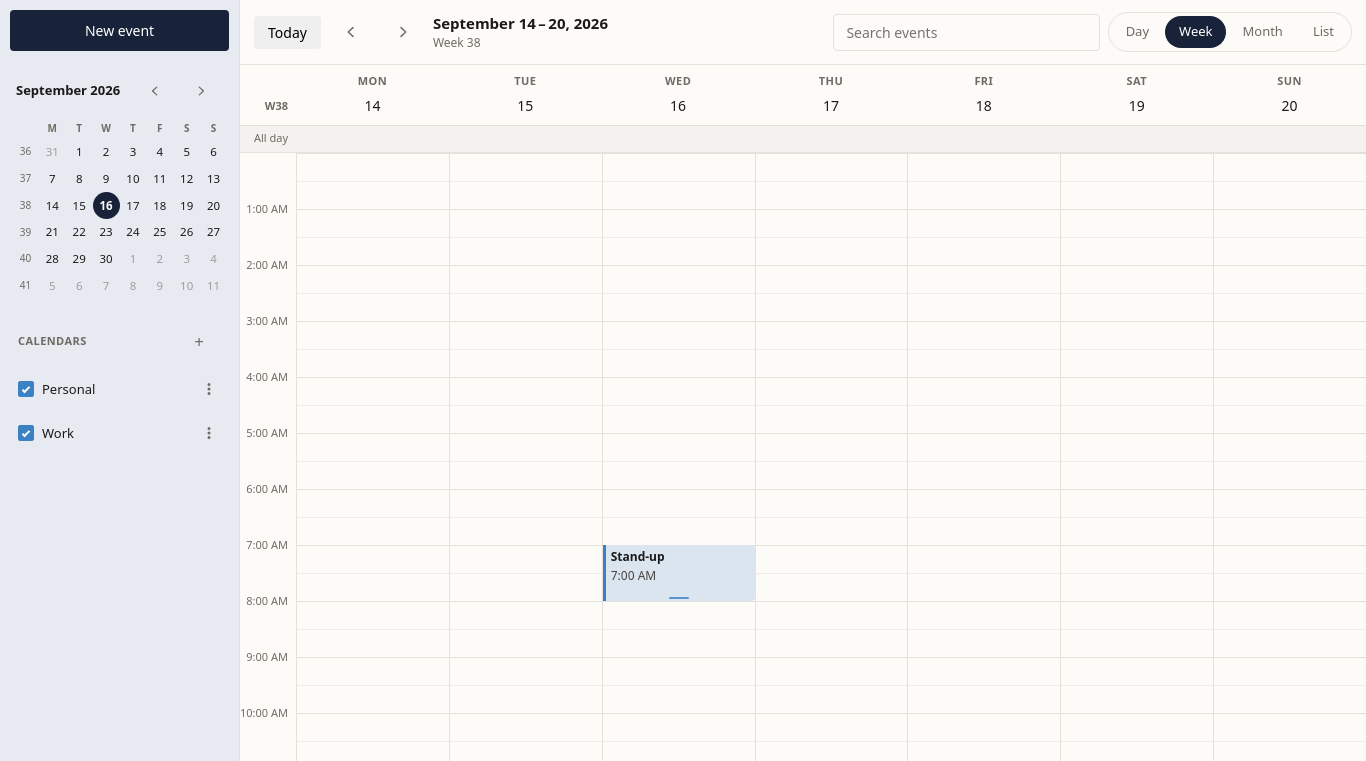
Test case: CalendarLayout — the bubble › hands focus to the grid column when the bubble’s own delete lands
The width and height of the screenshot is (1366, 761).
Click the button "Stand-up 7:00 AM".
click(679, 572)  # box [603,544,755,600]
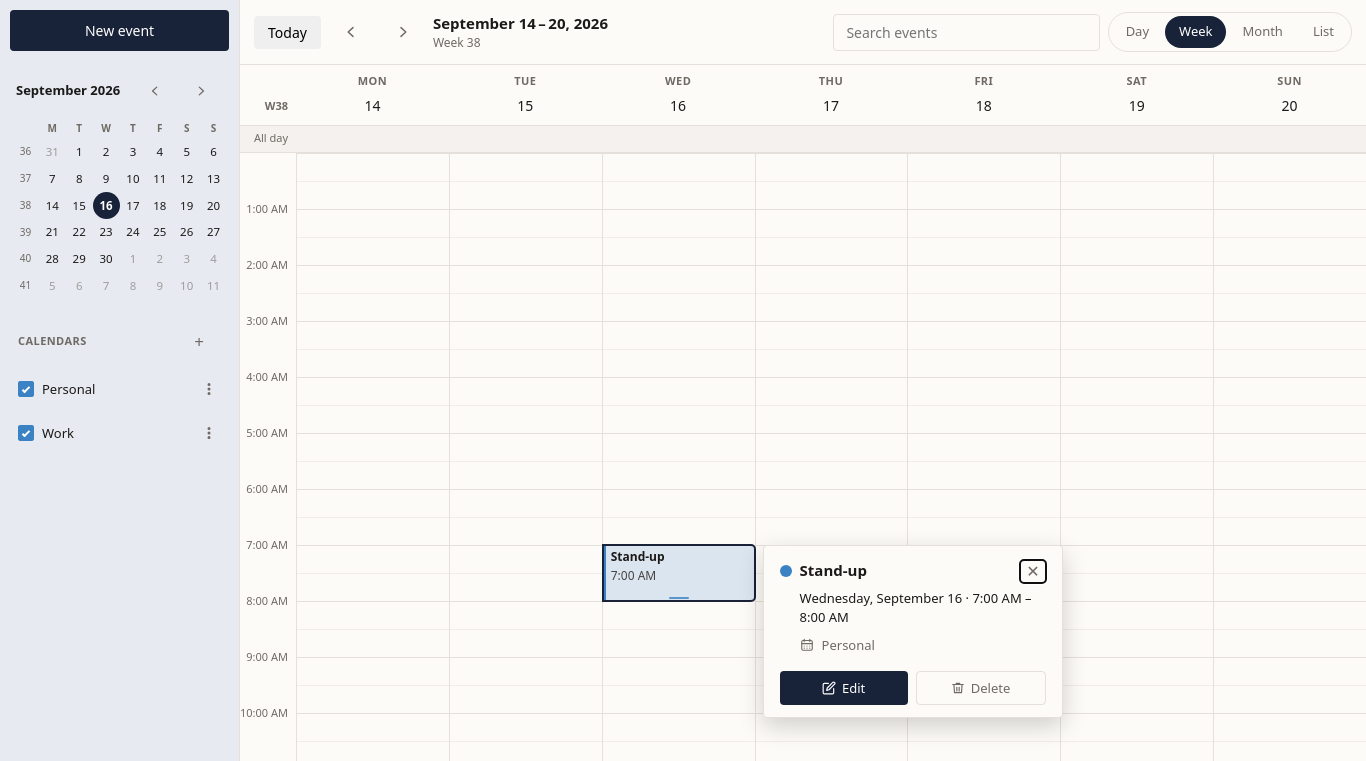
Click the button "Delete".
click(981, 688)  # box [916,671,1046,705]
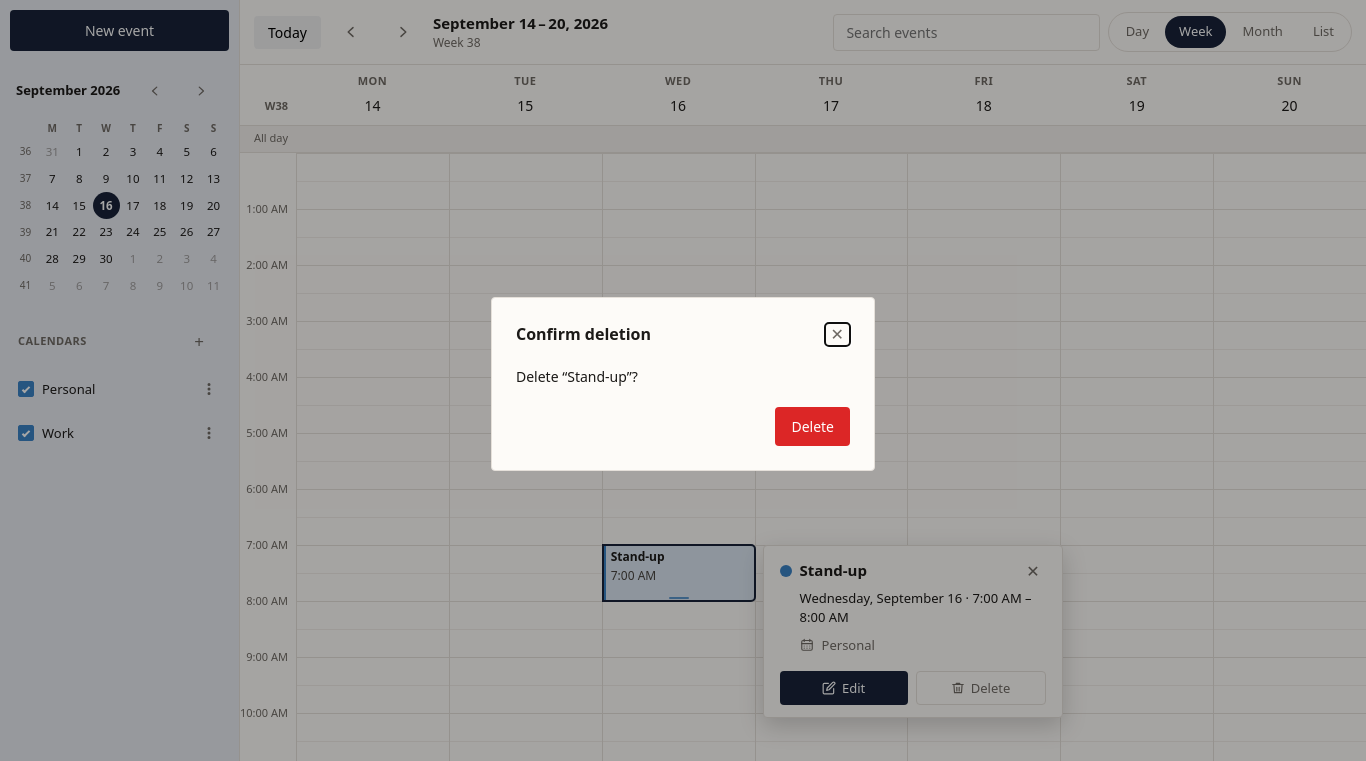
Click the button "Delete".
click(813, 426)  # box [775,407,850,446]
(page scrolled)
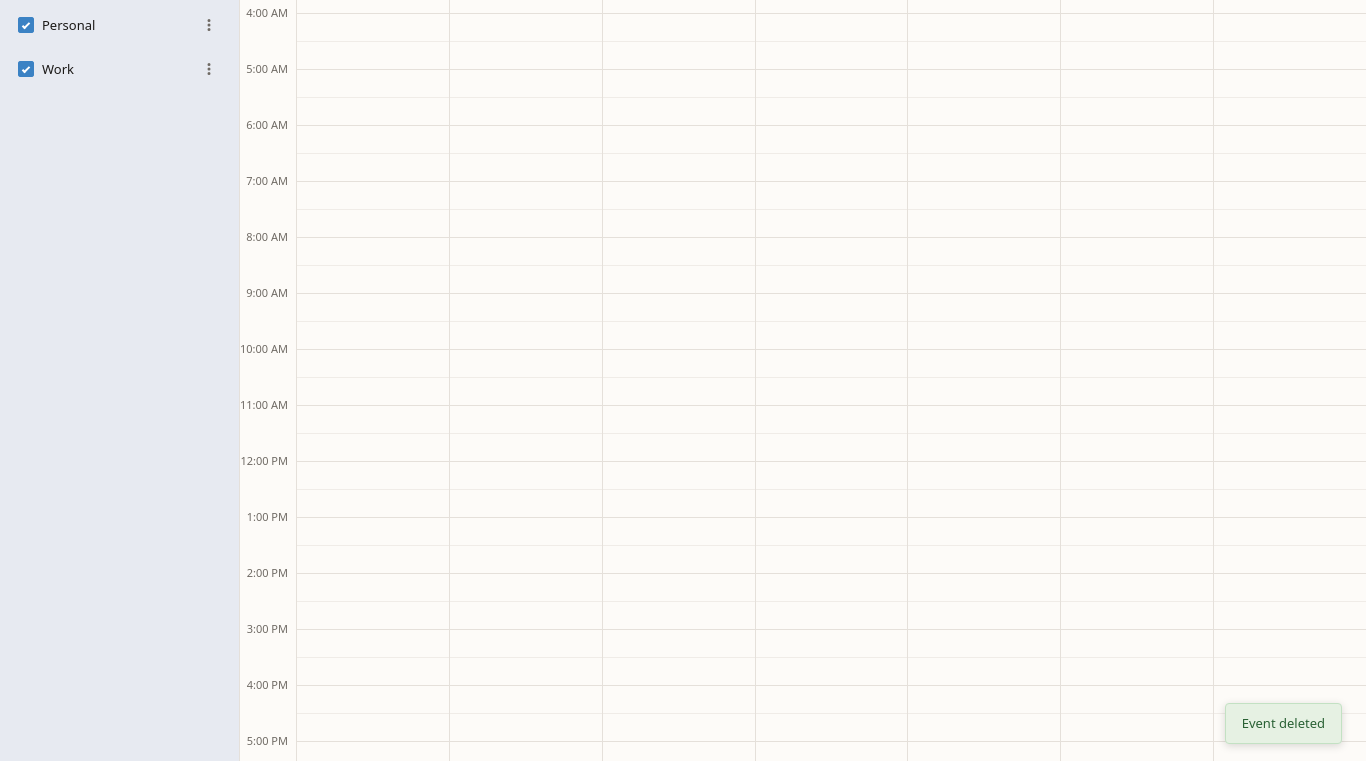
Now the button "Stand-up" is gone
